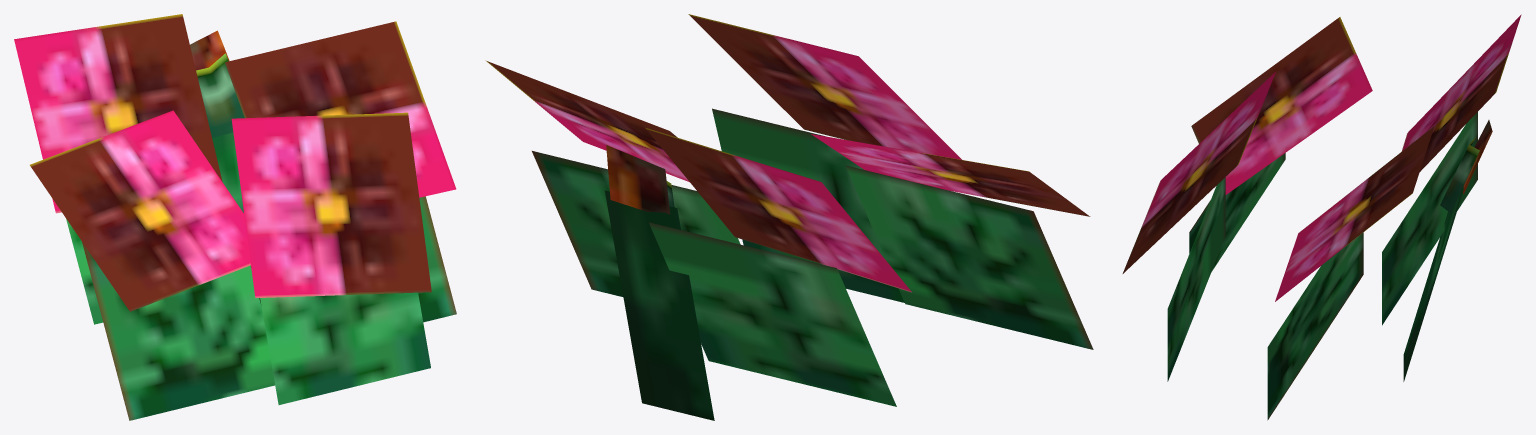
The model's file is flw_cosmos_bk.dae.
3 renders of one model, left to right at view 1: azimuth 30°, elevation 25°; view 2: azimuth 150°, elevation 25°; view 3: azimuth 270°, elevation 25°, orthographic. The views are drawn at different scales.
Parts seen in each view (by area): view 1: flw_cosmos_bk; view 2: flw_cosmos_bk; view 3: flw_cosmos_bk.
Boxes of the visible parts, x1,y1,x2,y2 form: flw_cosmos_bk: [14, 14, 456, 420]; flw_cosmos_bk: [485, 14, 1093, 420]; flw_cosmos_bk: [1122, 14, 1521, 420].
Bounding box in the file's own units: 32.21 × 20.79 × 27.9.
Materials: 1 (1 with a texture image).
